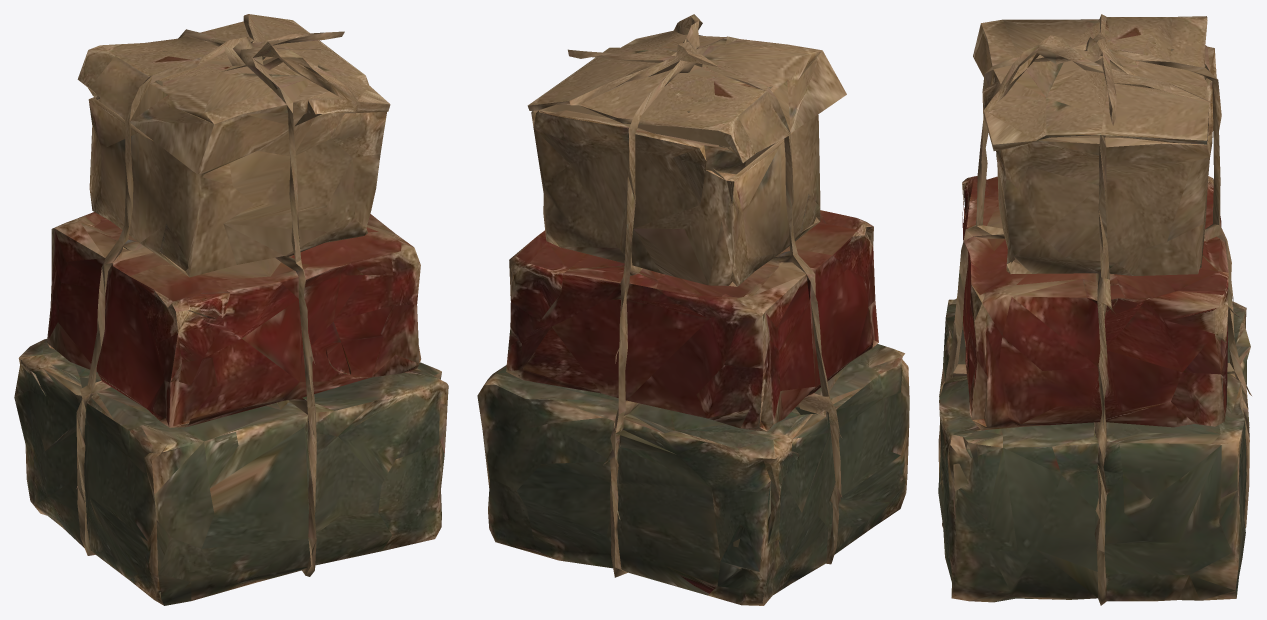
File: up_box_stack.glb
3 renders of one model, left to right at view 1: azimuth 30°, elevation 25°; view 2: azimuth 150°, elevation 25°; view 3: azimuth 270°, elevation 25°, orthographic. The views are drawn at different scales.
Parts seen in each view (by area): view 1: up_box_stack; view 2: up_box_stack; view 3: up_box_stack.
Boxes of the visible parts, box(x1,y1,x2,y2) form: up_box_stack: box(14, 14, 448, 605); up_box_stack: box(477, 14, 909, 605); up_box_stack: box(938, 14, 1251, 605).
Size of the model in its own units: 0.5776 by 0.9 by 0.5017.
1 material, 1 textured.
